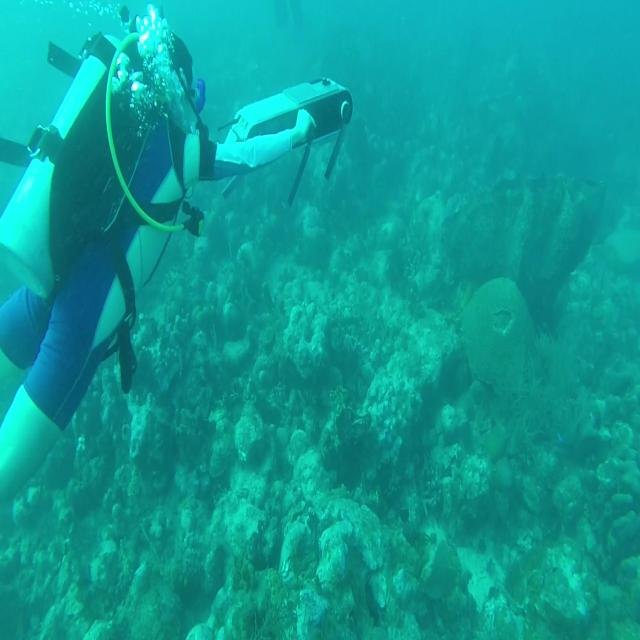human: (0, 4, 345, 511)
